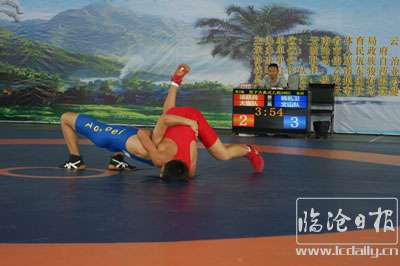fall: (141, 75, 263, 190)
